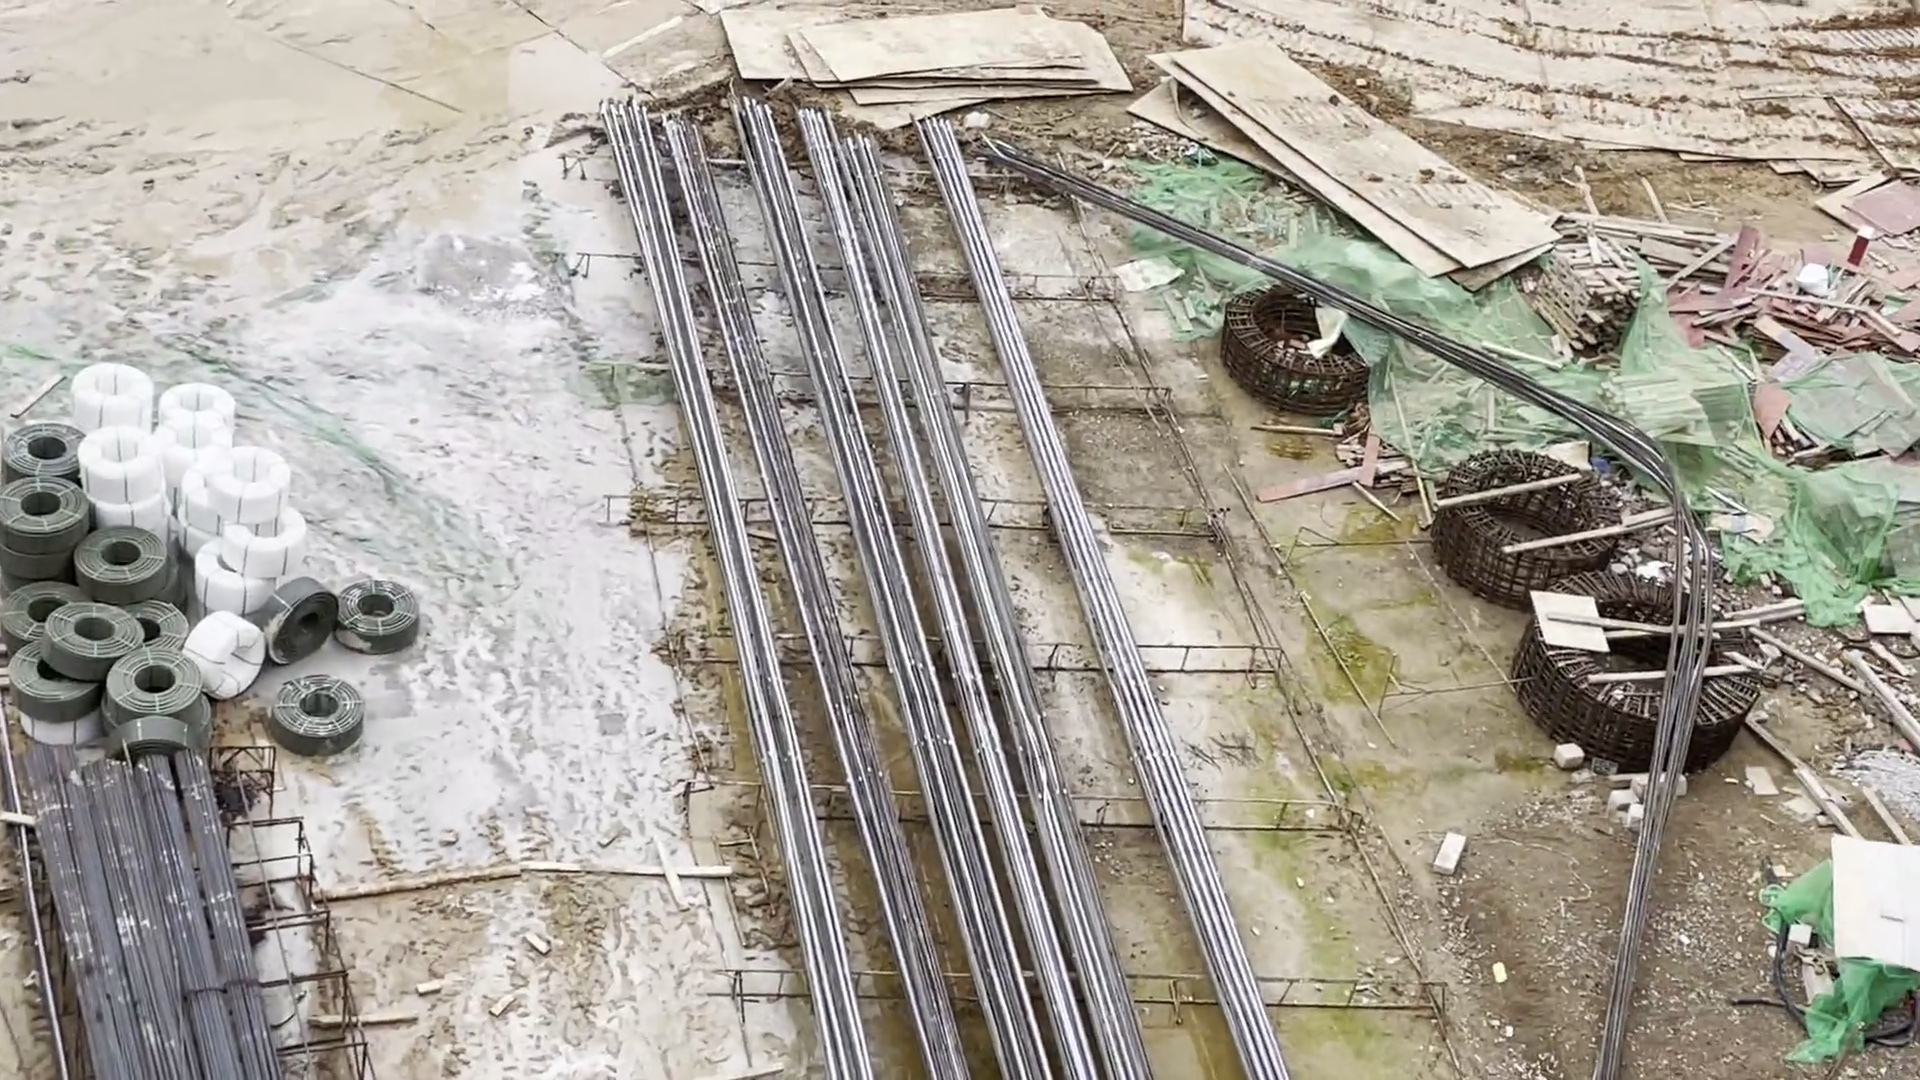board: (1683, 251, 1837, 342)
rebar: (650, 98, 1116, 1080), (32, 757, 316, 1069)
